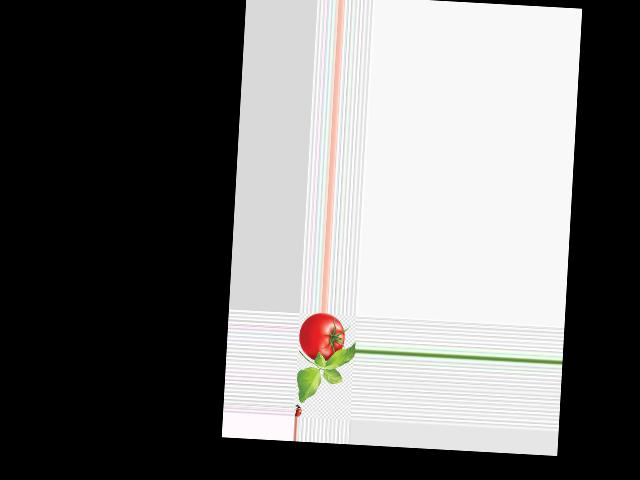tomato: (297, 312, 345, 362)
